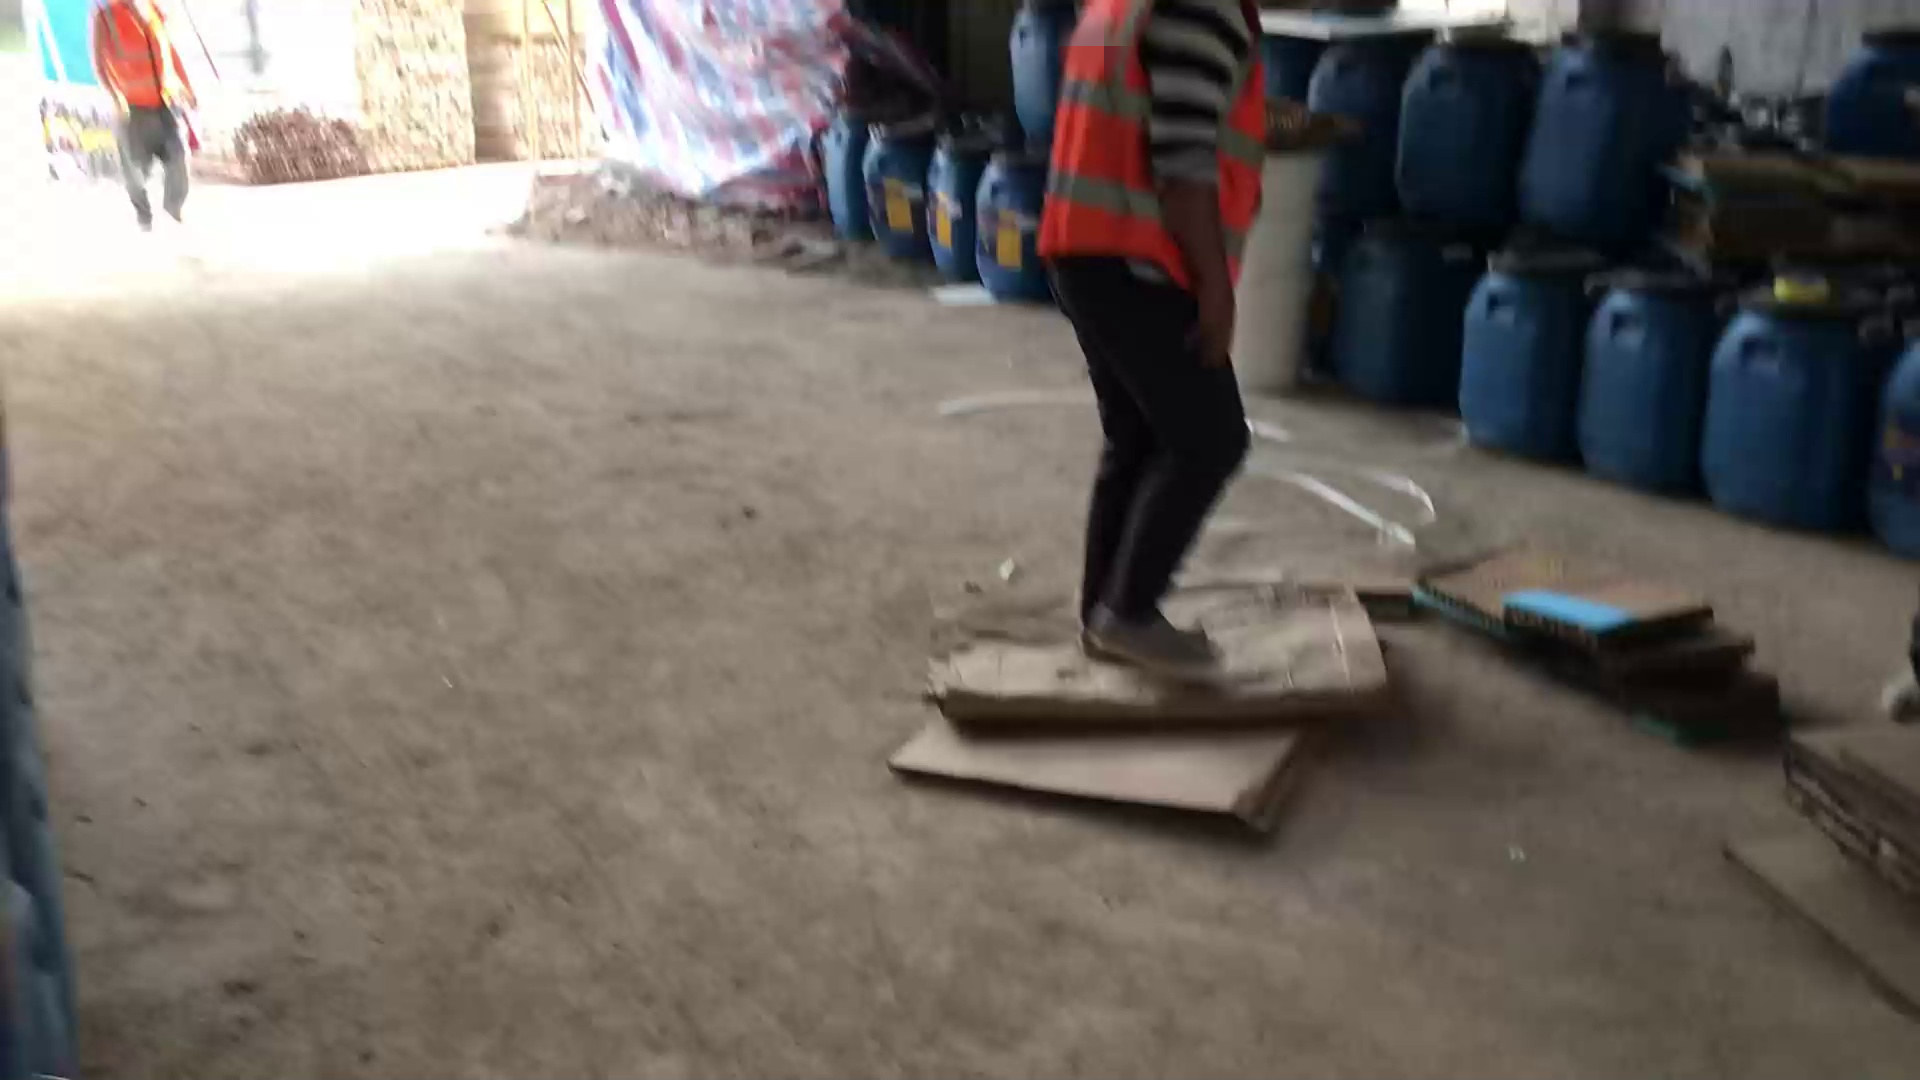person: (1029, 1, 1271, 688), (88, 1, 208, 238)
scaffold: (193, 104, 357, 191)
vest: (1030, 1, 1264, 299), (89, 1, 188, 109)
wood: (346, 1, 608, 174)
